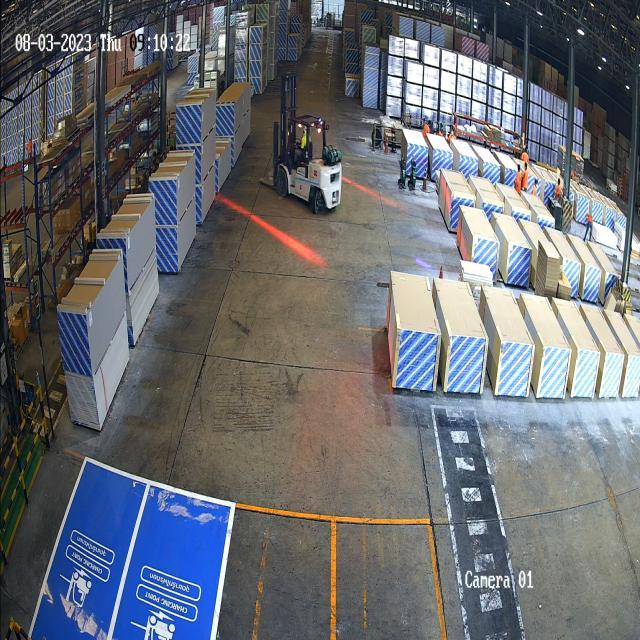driver: (294, 126, 310, 166)
forklift: (269, 108, 344, 214)
person: (514, 164, 522, 194), (523, 161, 528, 191), (532, 178, 539, 196), (423, 120, 430, 135), (556, 177, 560, 198)
